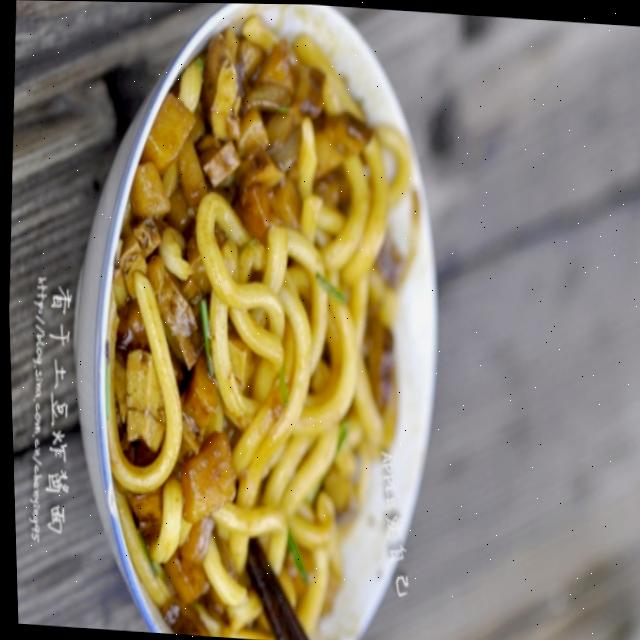面条主食: (56, 1, 489, 640)
